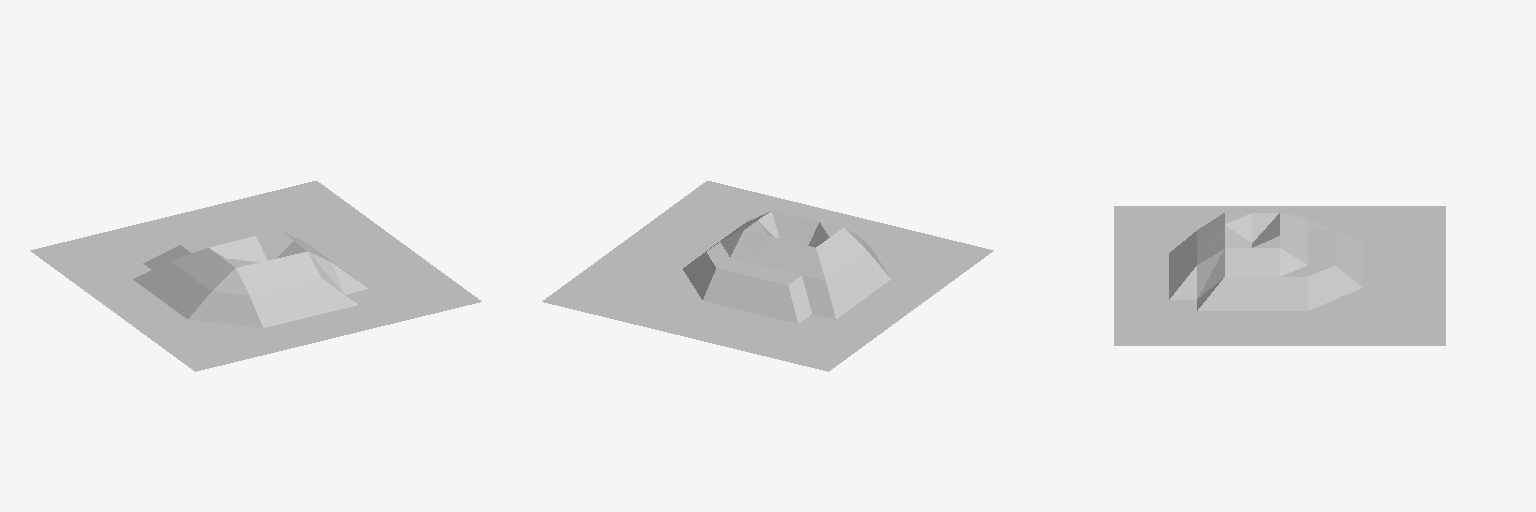
File: centralRock_4.obj
3 views of the same model, side by side, from view 1: azimuth 30°, elevation 25°; view 2: azimuth 150°, elevation 25°; view 3: azimuth 270°, elevation 25° (orthographic).
Parts seen in each view (by area): view 1: centralRock_4; view 2: centralRock_4; view 3: centralRock_4.
Boxes of the visible parts, x1=… form: centralRock_4: x1=30, y1=181, x2=481, y2=371; centralRock_4: x1=542, y1=181, x2=993, y2=371; centralRock_4: x1=1114, y1=206, x2=1445, y2=345.
Bounding box in the file's own units: 12 × 1.61 × 12.